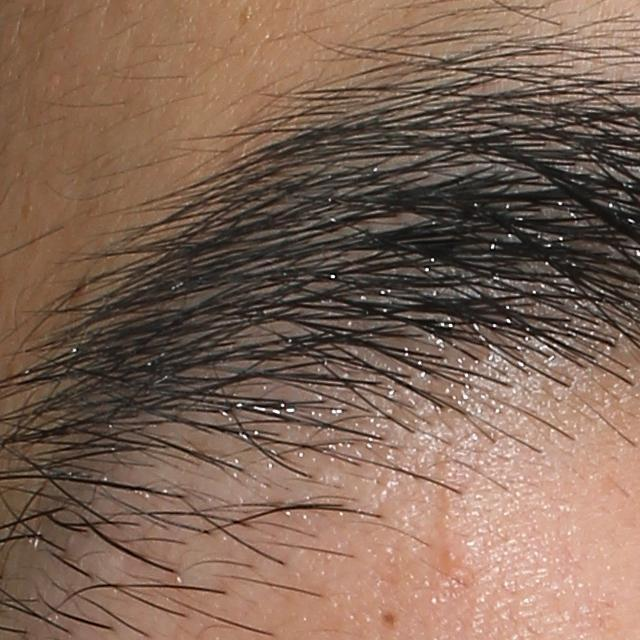nevus: (380, 608, 399, 629)
